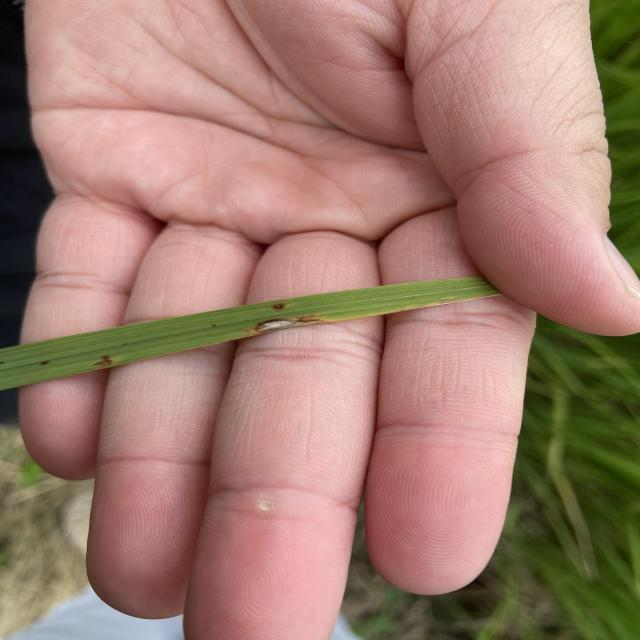Dao on: (247, 315, 335, 337), (92, 354, 113, 367), (271, 302, 287, 311)
